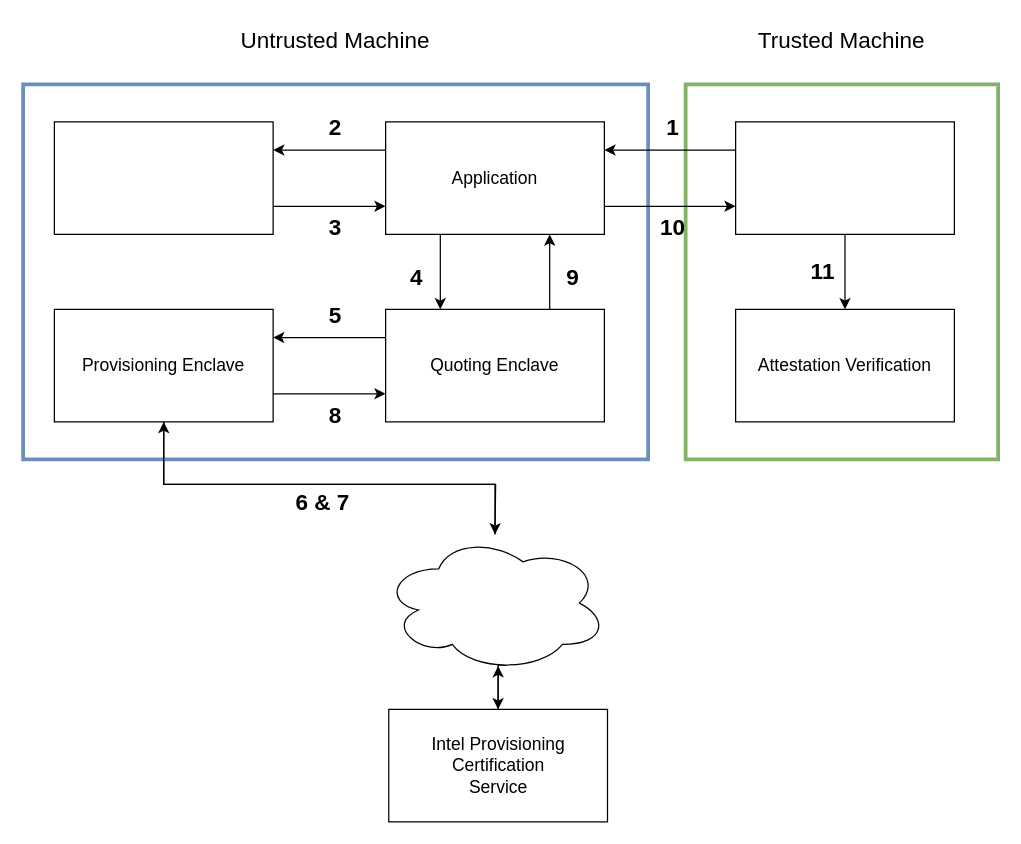
This 1021x844 diagram has some shape labels left out. The shapes that lost their labels are listed below. From the top down, each one's box as (x1, y1, x2, y2) in pixels, then its label:
(53, 121, 273, 234): Application Enclave
(734, 121, 954, 234): Challenger
